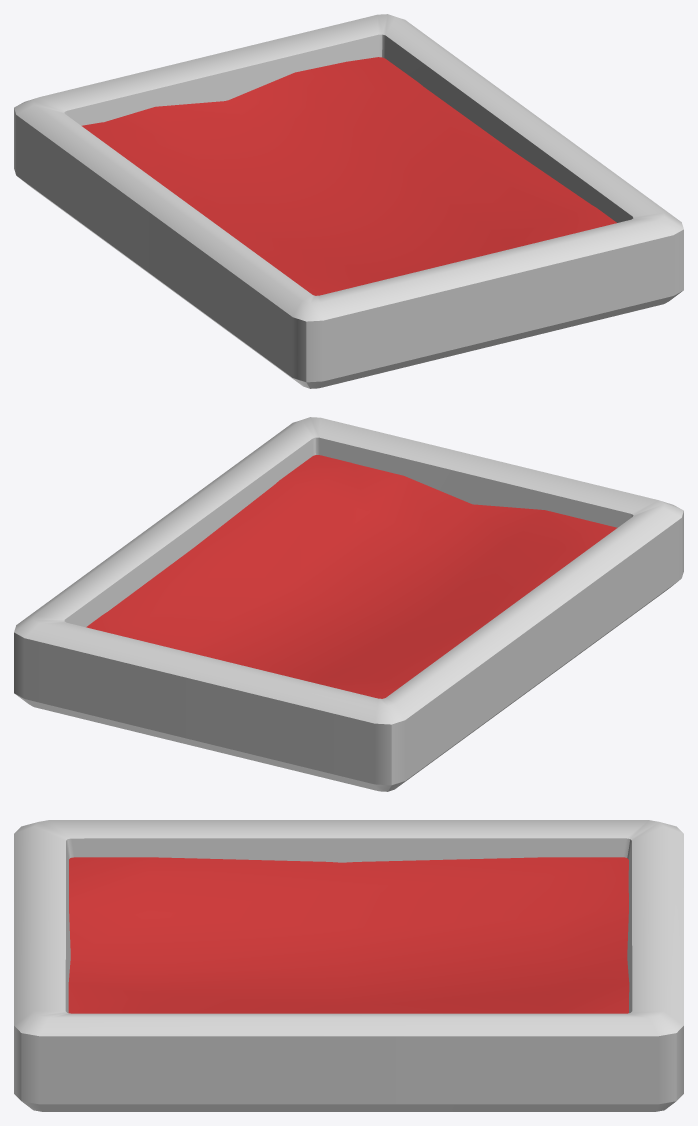
File: Model_MakeUp_OilMudDish.fbx
3 views of the same model, one above another, from view 1: azimuth 30°, elevation 25°; view 2: azimuth 150°, elevation 25°; view 3: azimuth 270°, elevation 25° (orthographic). The views are drawn at different scales.
Parts seen in each view (by area): view 1: polySurface88, polySurface87; view 2: polySurface88, polySurface87; view 3: polySurface88, polySurface87.
Part boxes in pixels (box(x1,y1,x2,y2)): polySurface88: box(14, 14, 683, 388); polySurface87: box(82, 57, 616, 295); polySurface88: box(14, 417, 683, 791); polySurface87: box(86, 455, 617, 698); polySurface88: box(14, 820, 683, 1111); polySurface87: box(68, 857, 629, 1013).
Size of the model in its own units: 0.4037 by 0.0826 by 0.5371.
